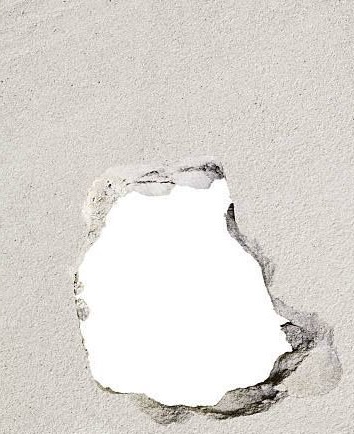Spalling: (72, 159, 319, 427)
